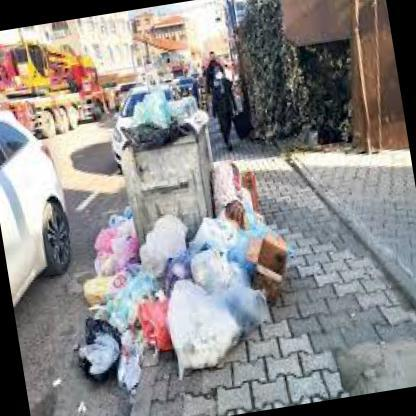Garbage: (58, 209, 279, 406), (52, 204, 157, 408), (210, 158, 279, 289), (107, 82, 206, 152)
